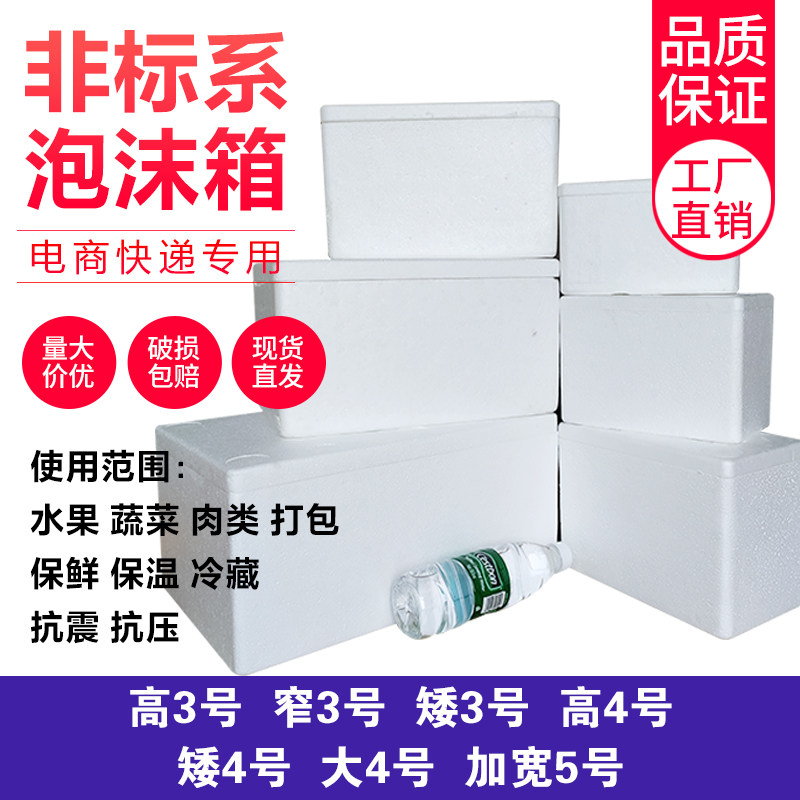泡沫箱: (157, 104, 799, 670)
